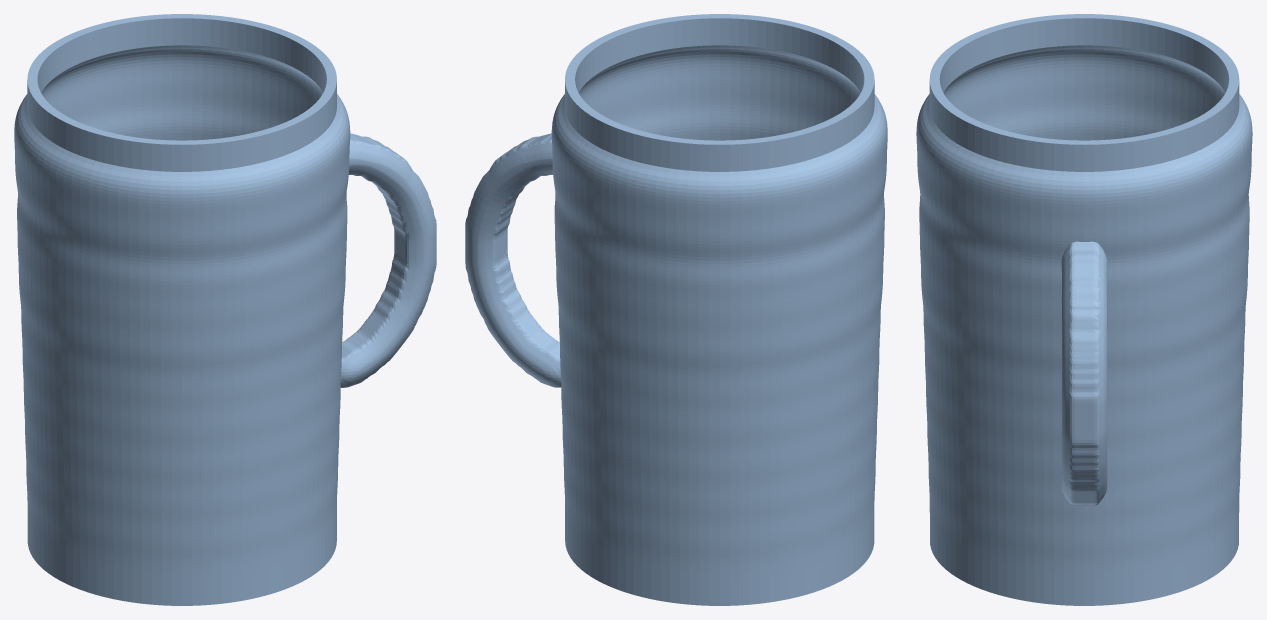
3 renders of one model, left to right at view 1: azimuth 30°, elevation 25°; view 2: azimuth 150°, elevation 25°; view 3: azimuth 270°, elevation 25°, orthographic.
Parts seen in each view (by area): view 1: part_1, part_0; view 2: part_1, part_0; view 3: part_1, part_0.
Boxes of the visible parts, x1,y1,x2,y2 form: part_1: (14,14,350,605); part_0: (340,133,436,387); part_1: (551,14,887,605); part_0: (465,133,561,387); part_1: (916,14,1252,605); part_0: (1061,241,1107,505).
Bounding box in the file's own units: 0.8944 × 1 × 0.6604.
